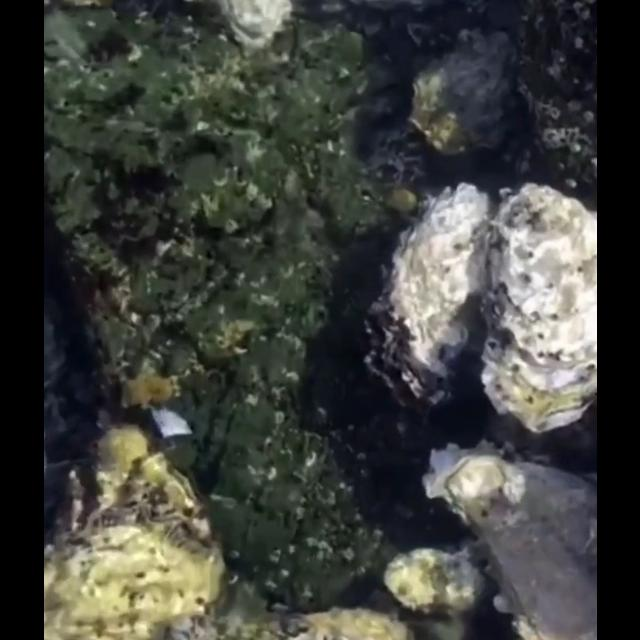Oyster-Closed: (44, 426, 226, 640), (419, 442, 596, 640), (478, 183, 596, 437), (404, 38, 516, 164), (382, 548, 488, 620), (212, 1, 294, 62)
Oyster-Open: (364, 183, 494, 417)
